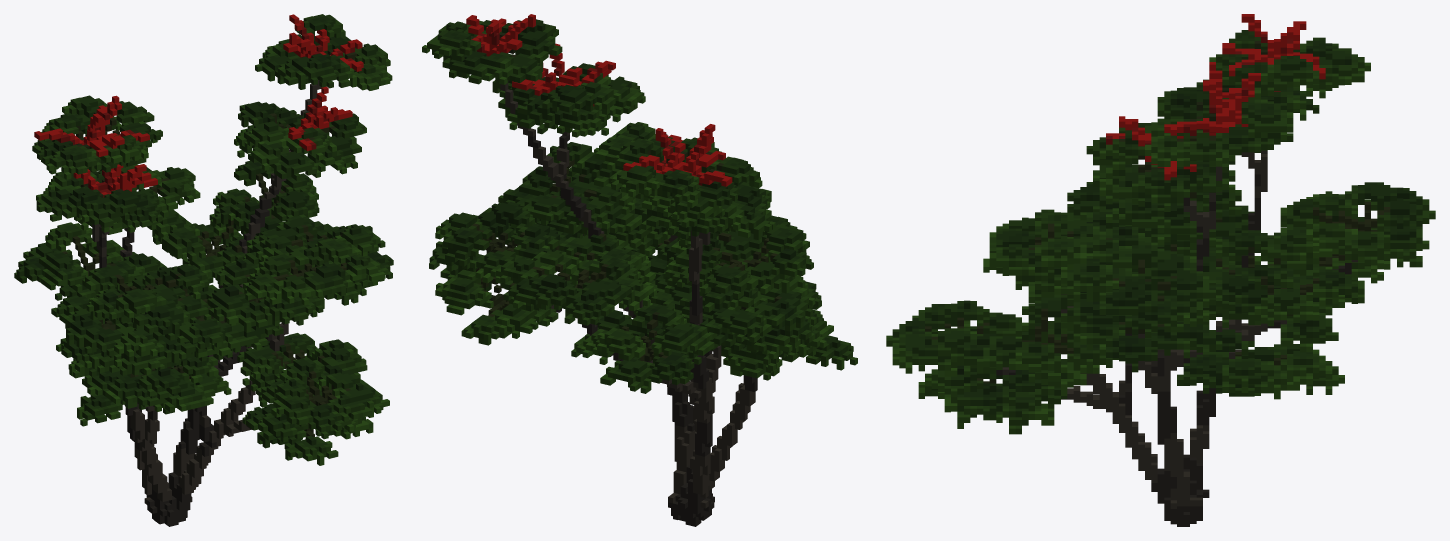
The model's file is arvore_folhas_largas_01_LOD2.fbx.
3 views of the same model, side by side, from view 1: azimuth 30°, elevation 25°; view 2: azimuth 150°, elevation 25°; view 3: azimuth 270°, elevation 25° (orthographic). The views are drawn at different scales.
Visible parts, largest first — view 1: arvore_folhas_largas_01_LOD2; view 2: arvore_folhas_largas_01_LOD2; view 3: arvore_folhas_largas_01_LOD2.
Boxes of the visible parts, bbox=[...] form: arvore_folhas_largas_01_LOD2: bbox=[14, 14, 393, 526]; arvore_folhas_largas_01_LOD2: bbox=[422, 14, 857, 526]; arvore_folhas_largas_01_LOD2: bbox=[886, 14, 1435, 526].
Bounding box in the file's own units: 740 × 920 × 850.
